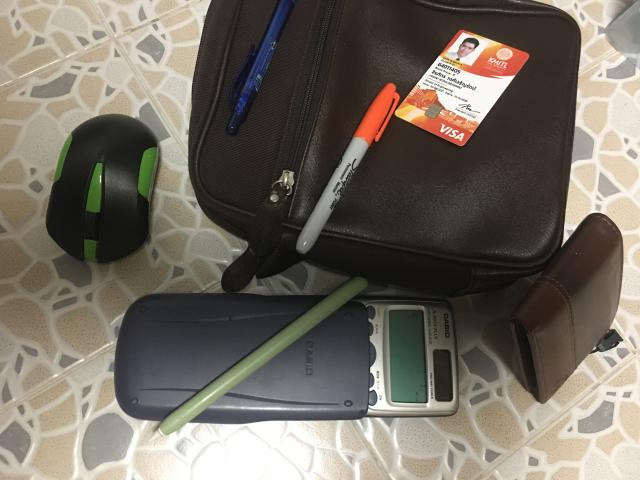Mouse: (46, 114, 158, 262)
Pen: (296, 82, 400, 254), (226, 0, 295, 134)
Wallet: (510, 214, 622, 404)
